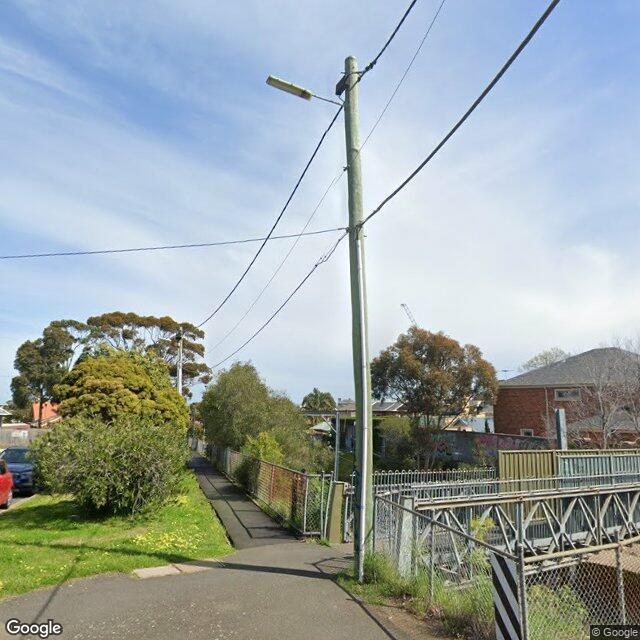streetlight: (266, 74, 346, 109)
timber-pole: (345, 56, 375, 584), (176, 326, 183, 397)
